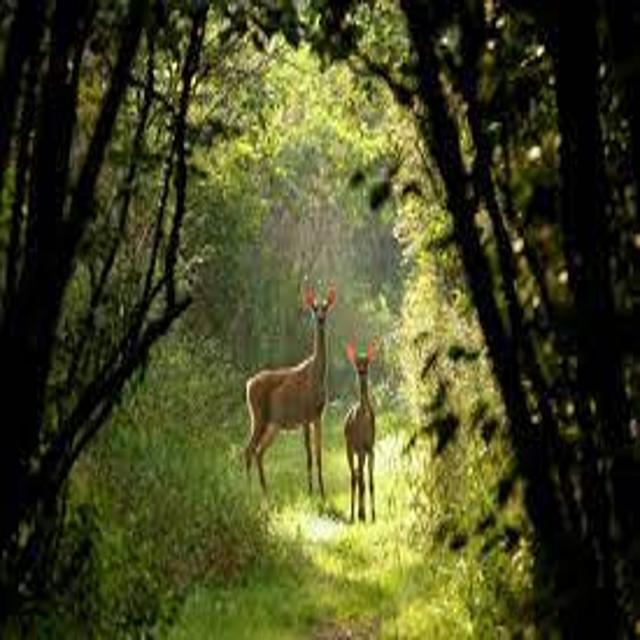Deer: (237, 279, 338, 509), (325, 344, 402, 522)
